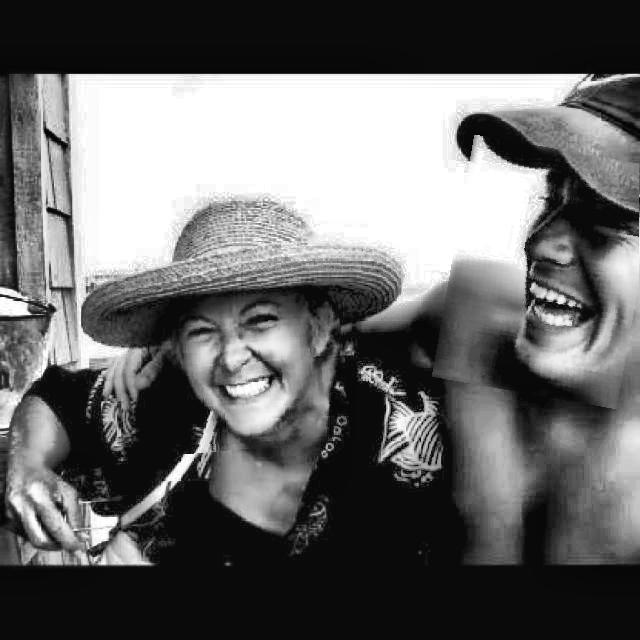happy: (442, 142, 640, 402), (170, 294, 347, 450)
